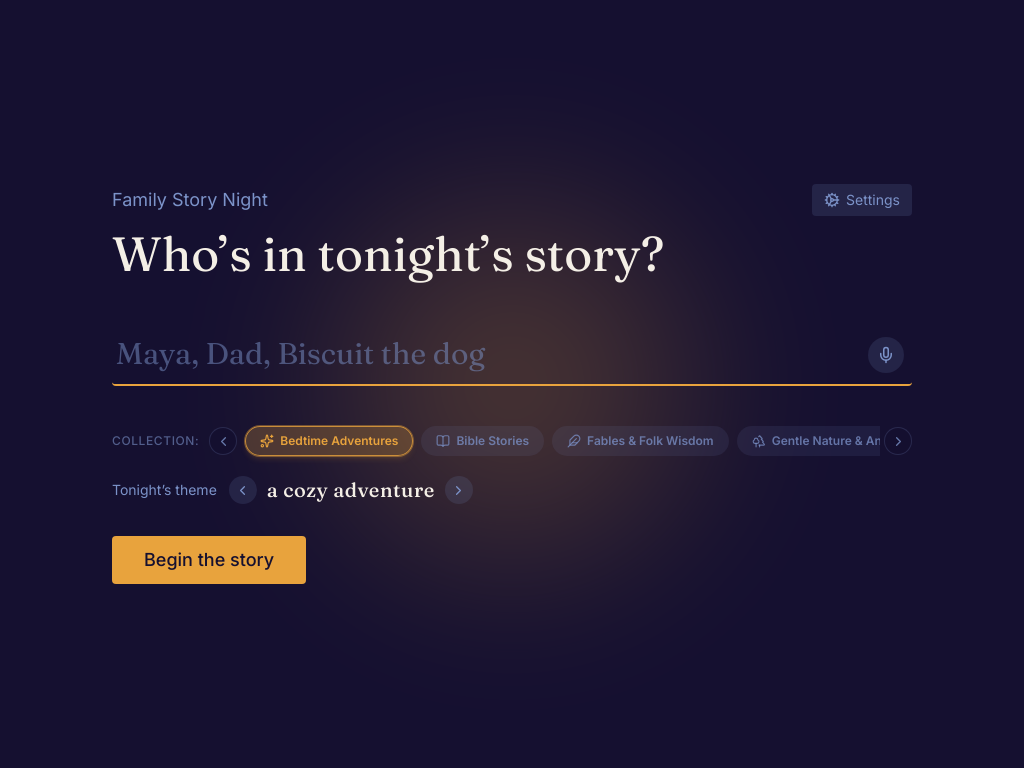
Scenario: Fire TV Remote & Gamepad Controller Support › Home key (keyCode 36 / 'Home') navigates directly to home screen from story screen
Type "Liam" into the field with placeholder "Maya, Dad, Biscuit the dog" at x=512, y=355, box top-left (112, 324), bottom-right (912, 386)
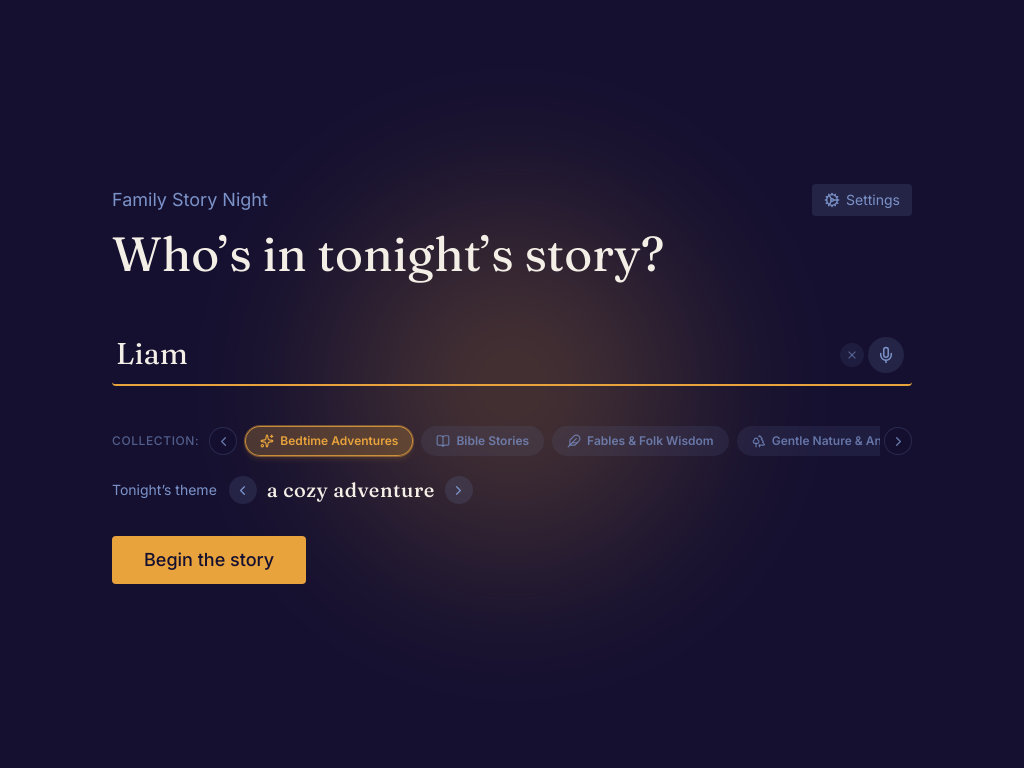
Click the button "Begin the story" at x=209, y=560, box top-left (112, 536), bottom-right (306, 584)
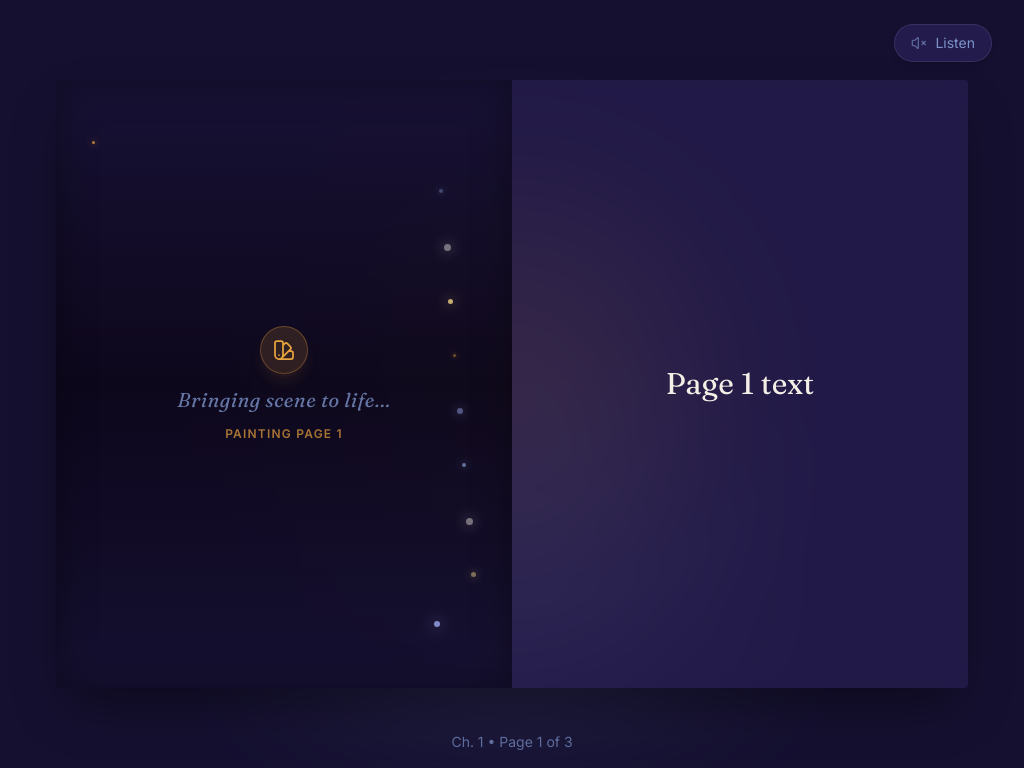
Result: the element with test id "story-screen" is shown
Press Home key
Press Home
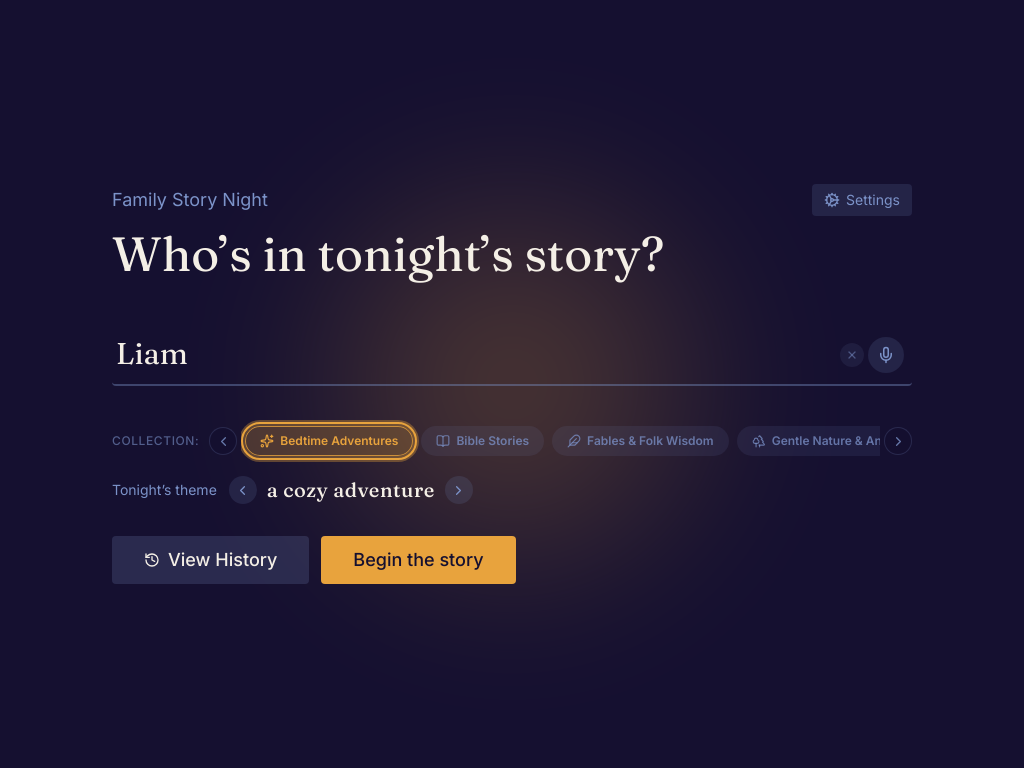
Result: the element with test id "story-screen" is gone
Result: the field with placeholder "Maya, Dad, Biscuit the dog" is shown at top-left (112, 324), bottom-right (912, 386)
